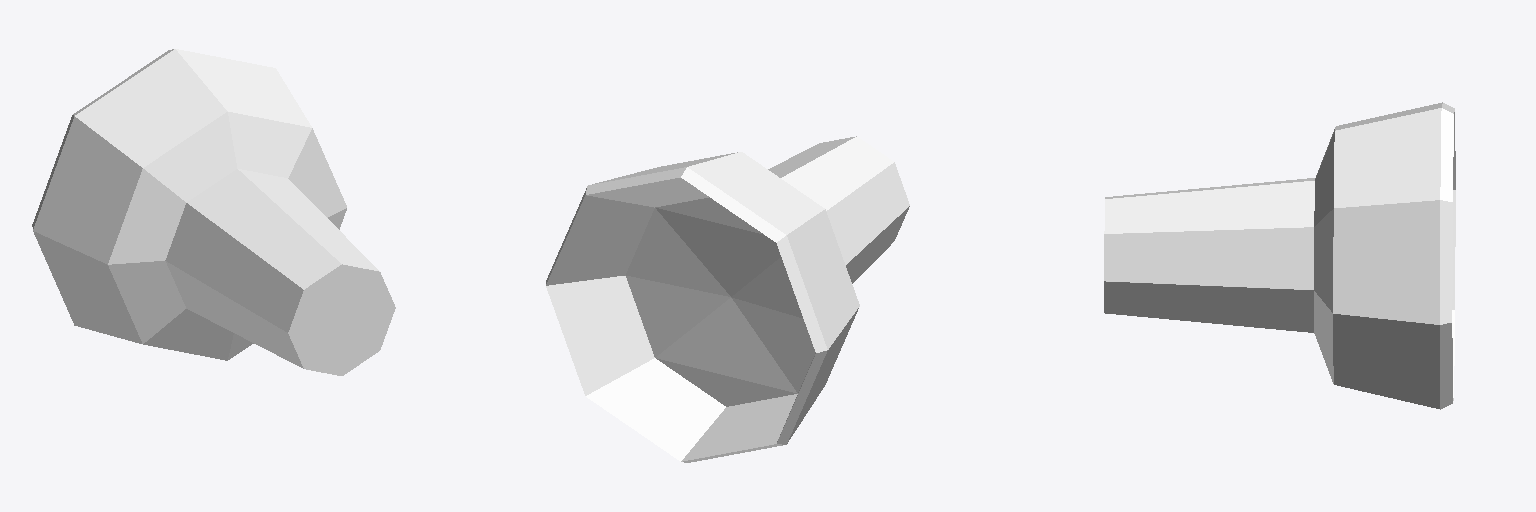
Rendered from HoseHead.obj.
3 renders of one model, left to right at view 1: azimuth 30°, elevation 25°; view 2: azimuth 150°, elevation 25°; view 3: azimuth 270°, elevation 25°, orthographic.
Parts seen in each view (by area): view 1: HoseHead; view 2: HoseHead; view 3: HoseHead.
Boxes of the visible parts, x1,y1,x2,y2 form: HoseHead: [32, 49, 395, 375]; HoseHead: [546, 136, 909, 462]; HoseHead: [1104, 102, 1455, 409].
Size of the model in its own units: 0.093 by 0.093 by 0.1.